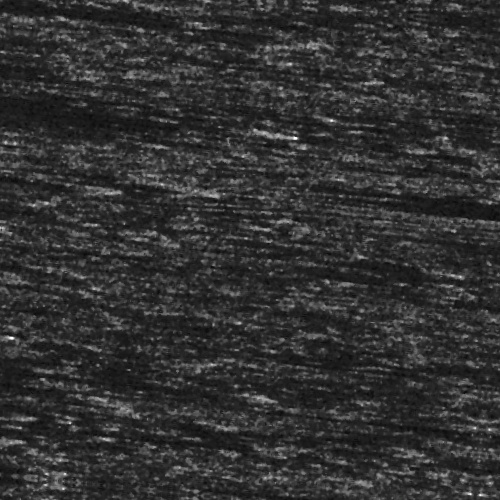object: (195, 122, 310, 139), (16, 196, 121, 209), (201, 390, 316, 401), (412, 485, 495, 492), (32, 485, 105, 492), (264, 29, 295, 38), (0, 435, 35, 442), (0, 459, 35, 464), (129, 194, 170, 197)
shadow: (0, 122, 252, 139), (0, 390, 258, 401), (375, 107, 500, 128), (243, 485, 453, 492), (0, 196, 68, 209), (352, 176, 500, 181), (360, 105, 500, 110), (209, 29, 279, 38), (0, 485, 68, 492), (3, 194, 149, 197), (418, 11, 500, 16), (365, 218, 500, 221), (414, 184, 500, 187), (465, 188, 500, 193)
